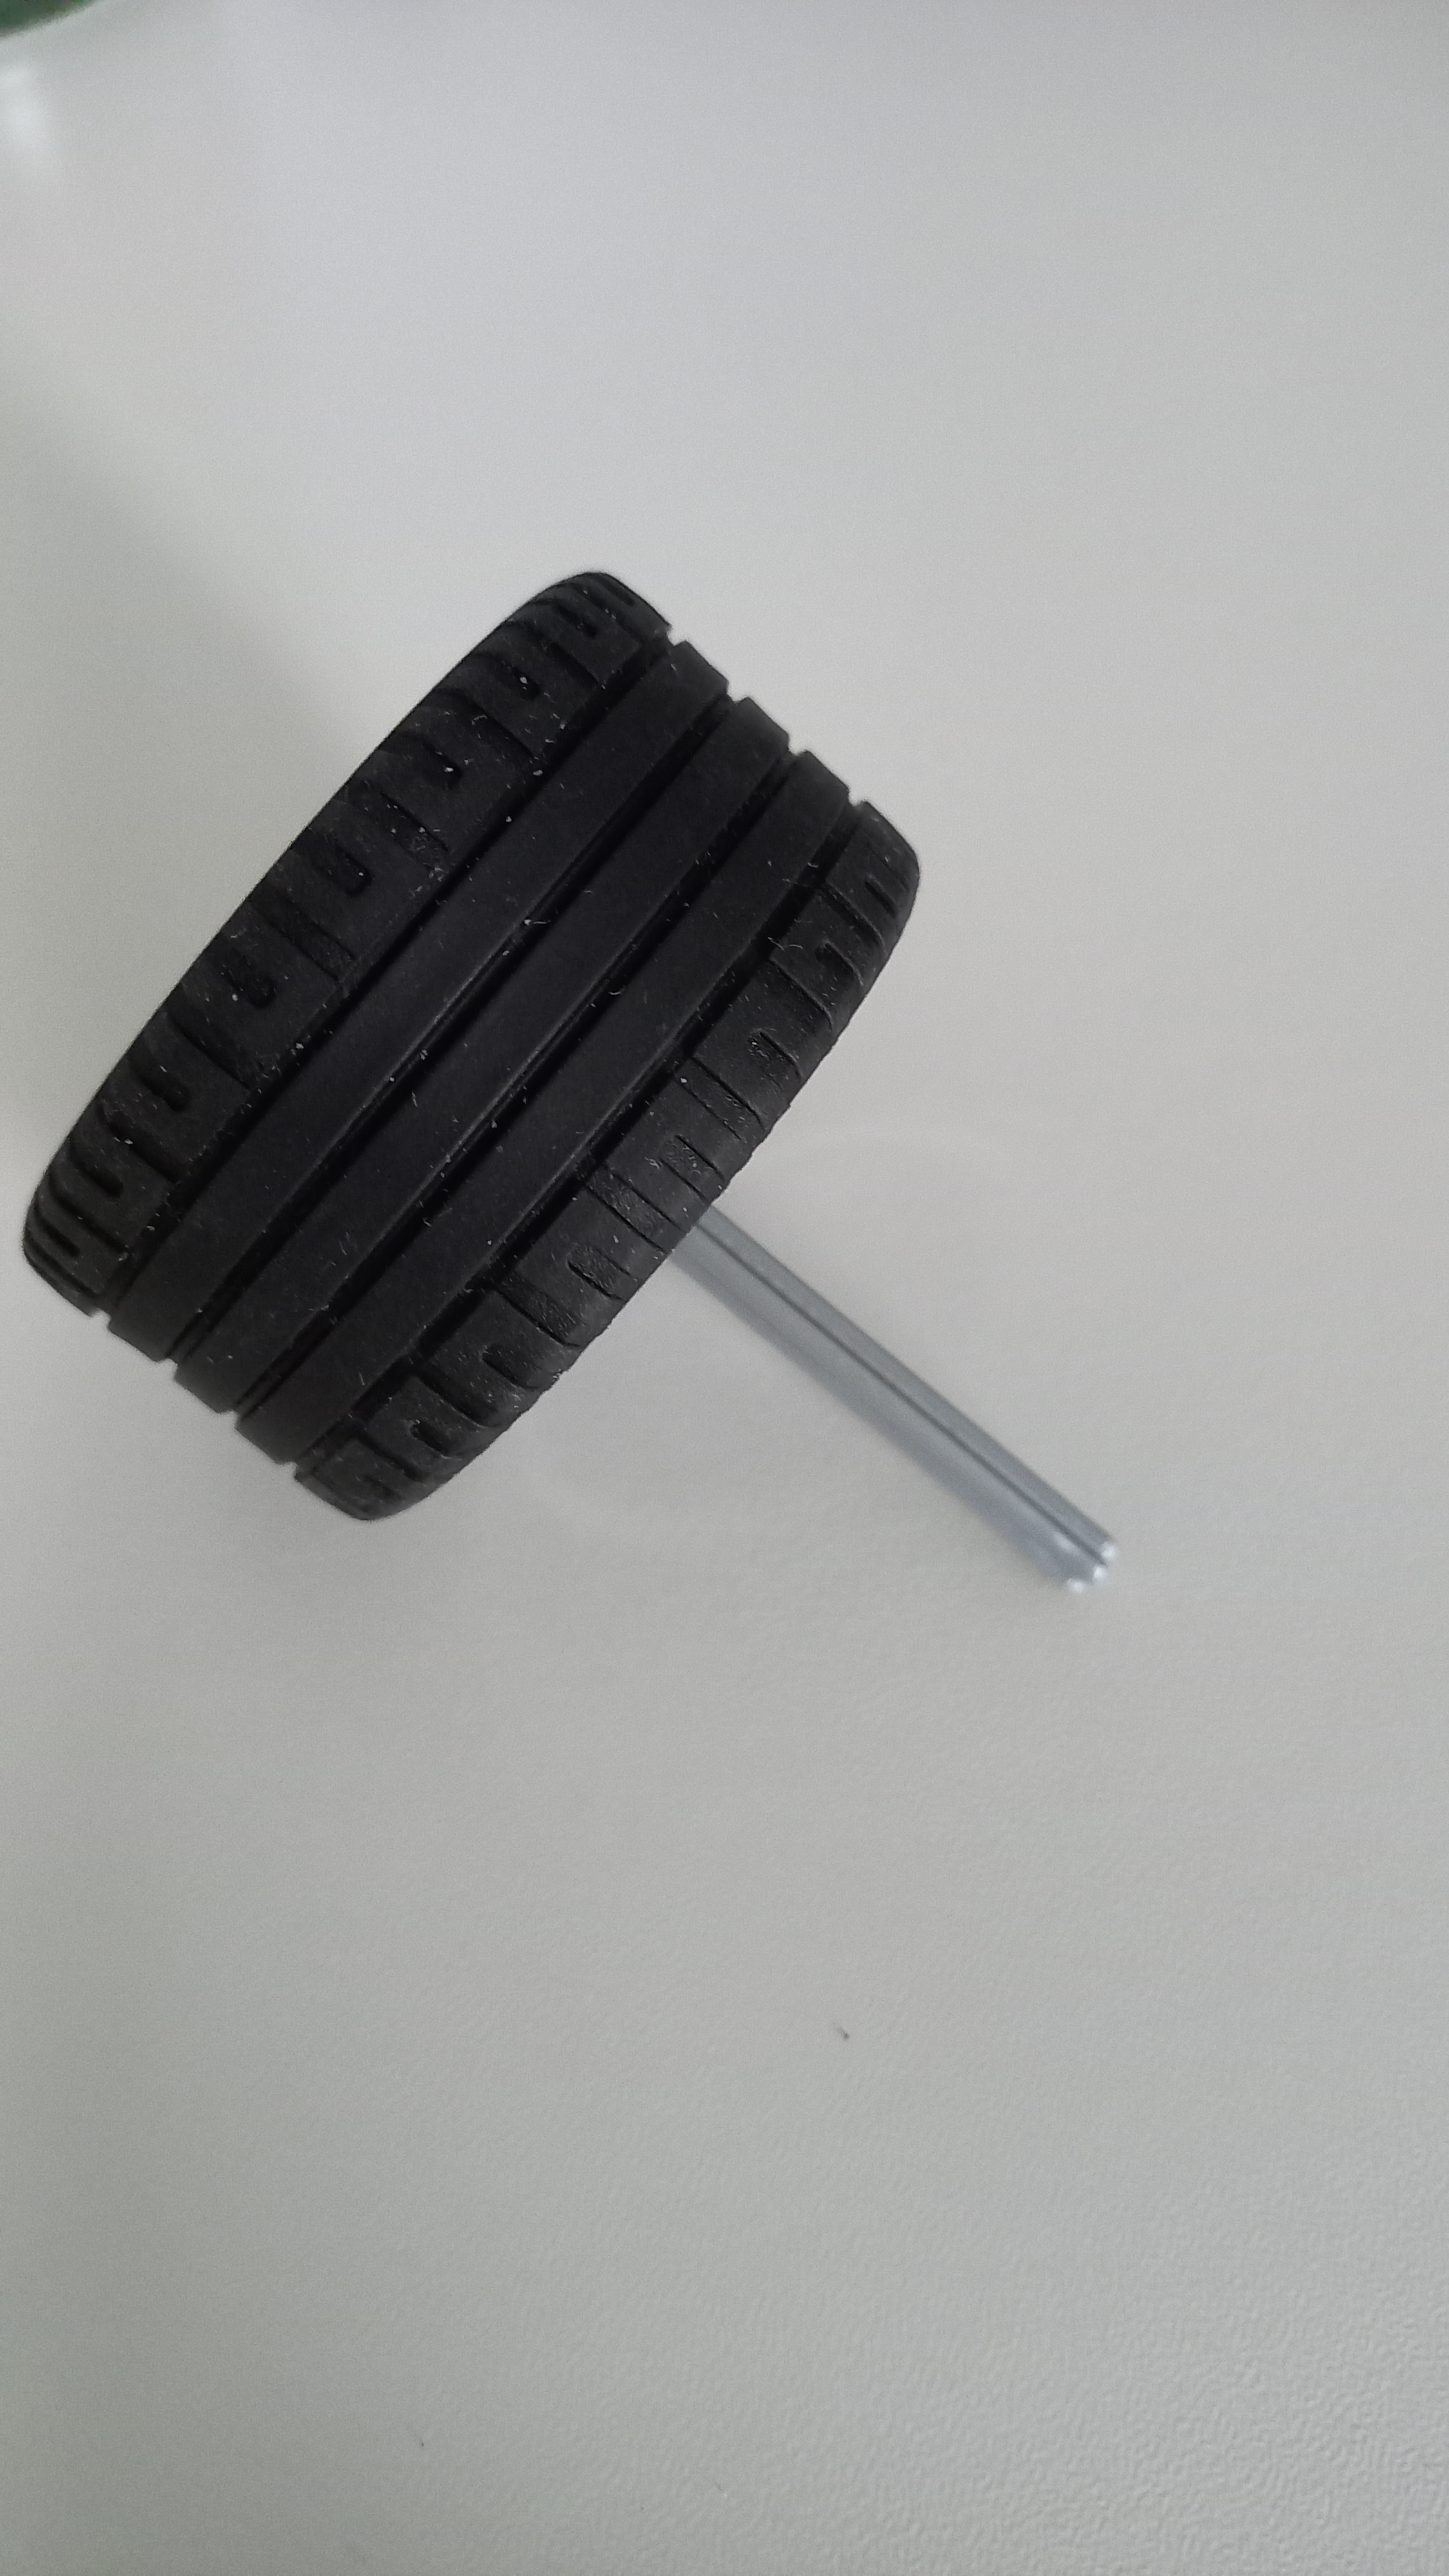Rad+Grau_lang: (14, 561, 1136, 1617)
